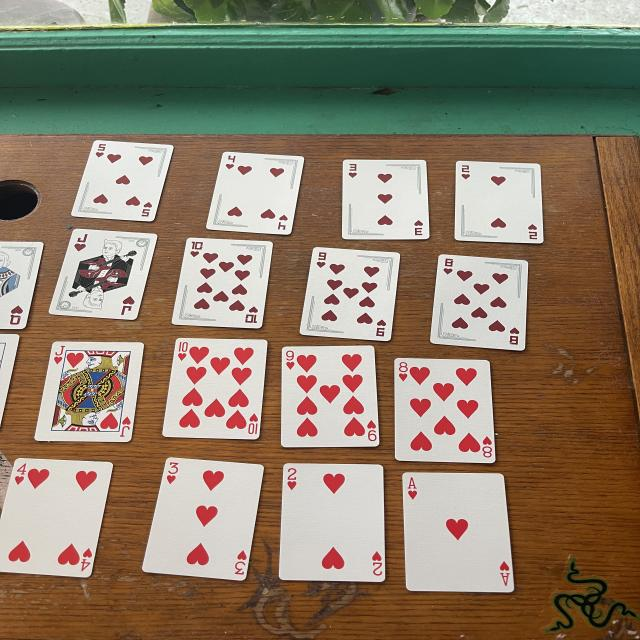10 of hearts: (163, 338, 267, 439), (172, 238, 273, 329)
2 of hearts: (278, 464, 385, 582), (455, 161, 543, 244)
3 of hearts: (142, 458, 263, 581), (342, 159, 430, 240)
4 of hearts: (0, 458, 113, 578), (207, 151, 305, 235)
5 of hearts: (72, 140, 173, 221)
8 of hearts: (395, 358, 495, 462), (430, 254, 528, 350)
9 of hearts: (282, 345, 380, 448), (300, 248, 400, 341)
Ace of hearts: (402, 472, 515, 592)
Jack of hearts: (35, 341, 143, 442), (48, 229, 157, 320)
Queen of hearts: (0, 241, 43, 330)
